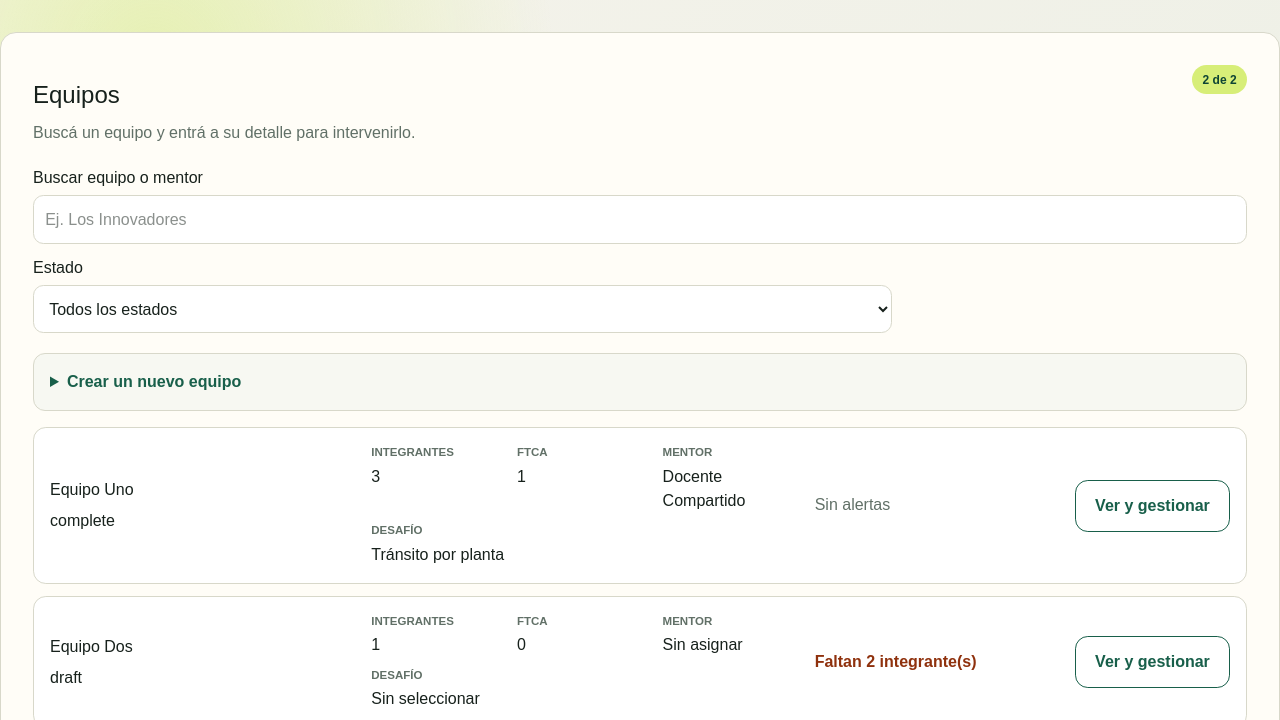
Scenario: admin team list and detail › shows compact summaries and filters without rendering team forms
This screenshot has width=1280, height=720.
Expected: the heading "Equipo Uno" is shown, [50,481,134,498]
Expected: the number of links "Ver y gestionar" is 2, [1075,480,1230,532]; [1075,636,1230,688]
Type "Dos" into the search field labelled "Buscar equipo o mentor" at [640, 220], box [33,195,1247,244]
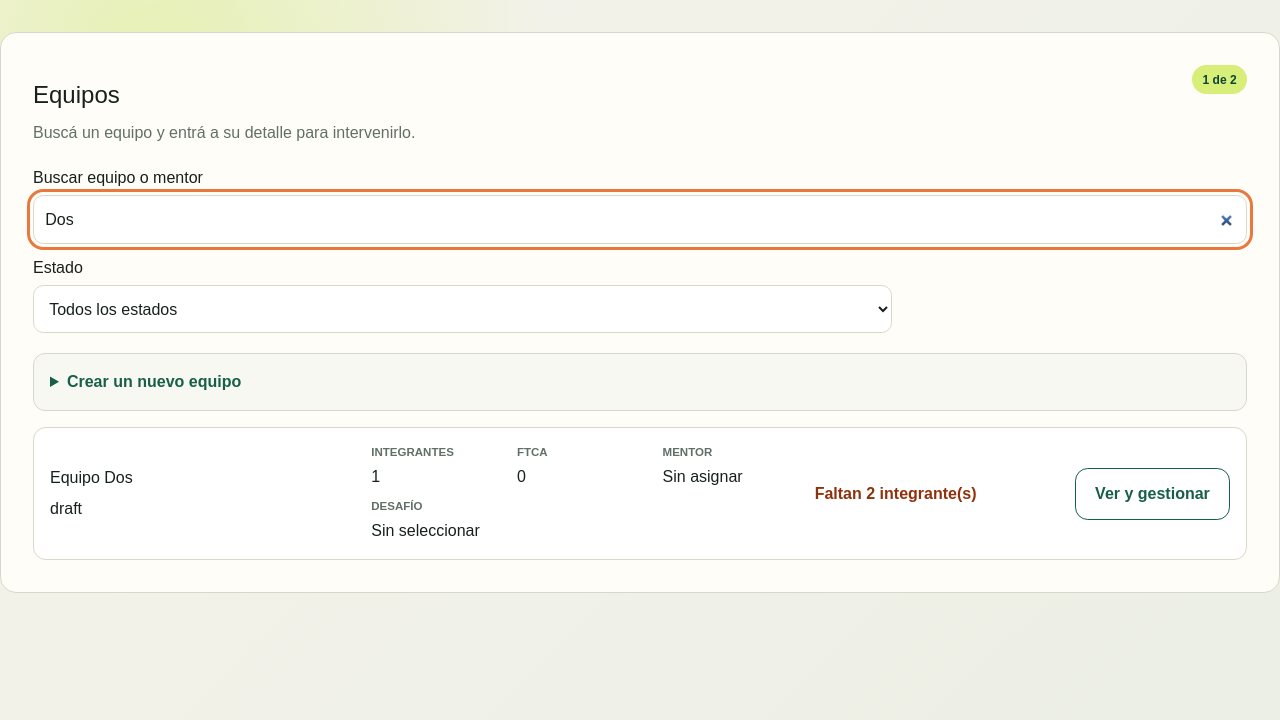
Expected: the heading "Equipo Dos" is shown, [50,469,133,486]
Expected: the heading "Equipo Uno" is gone
